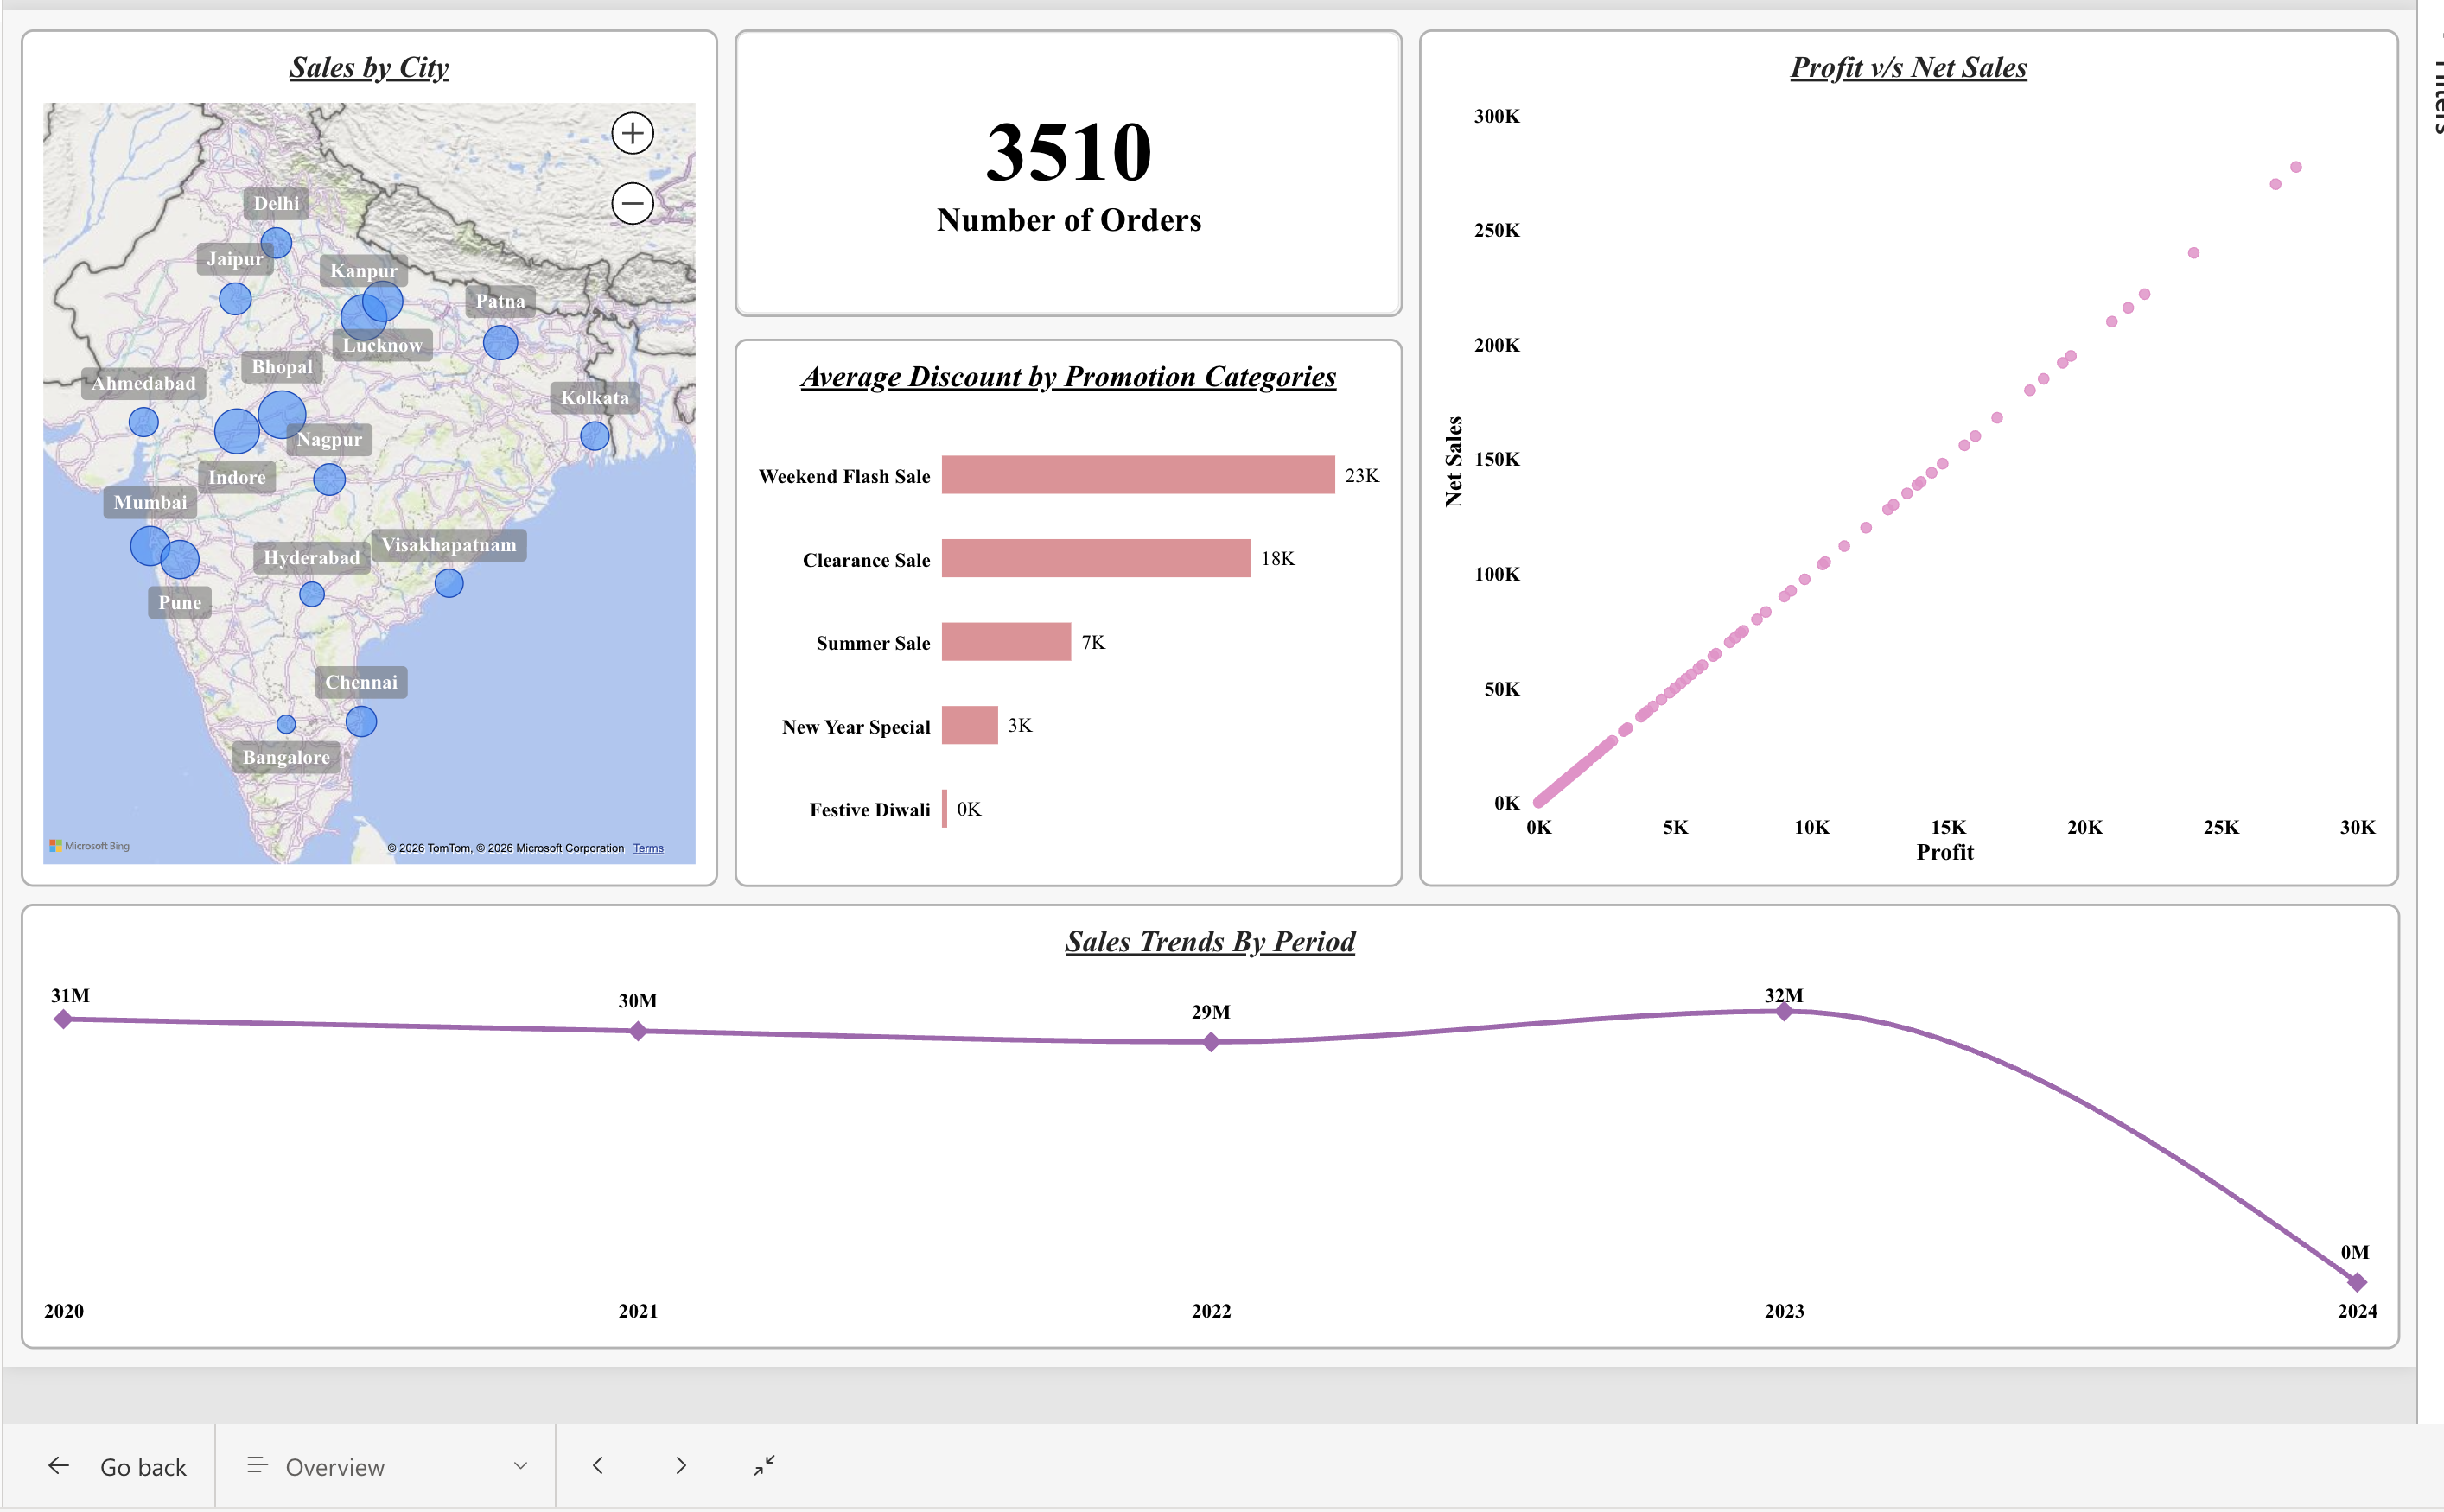

The dashboard page shown, as its layout file describes it:
{"tool":"powerbi","page":{"name":"Overview","canvas":[1920,1080],"ordinal":1},"visuals":[{"type":"lineChart","title":"Sales Trends By Period","fields":{"Category":["DateTable.Date.Variation.Date Hierarchy.Year","DateTable.Date.Variation.Date Hierarchy.Quarter","DateTable.Date.Variation.Date Hierarchy.Month","DateTable.Date.Variation.Date Hierarchy.Day"],"Y":["Sum(Fact Table.Net Sales)"]},"box":[13.3,711.2,1893.3,354.6],"z":0},{"type":"scatterChart","title":"Profit v/s Net Sales","fields":{"X":["Fact Table.Profit"],"Y":["Fact Table.Net Sales"]},"box":[1126.8,15.3,779.8,682.6],"z":1000},{"type":"barChart","title":"Average Discount by Promotion Categories","fields":{"Category":["Dim Promotion.Promotion Name"],"Y":["Avg(Fact Table.Discount Value)"]},"box":[581.5,261.2,532,436.6],"z":2000},{"type":"map","title":"Sales by City","fields":{"Category":["Dim Customers.City"],"Size":["Sum(Fact Table.Net Sales)"]},"box":[13.3,15.3,554.8,682.6],"z":3000},{"type":"cardVisual","fields":{"Data":["Count(Fact Table.Order ID)"]},"box":[581.5,15.3,532,228.8],"z":4000}]}

Visuals, with their boxes on the page's 1920x1080 design canvas (x1, y1, x2, y2). These are canvas units, not pixel positions in the 2444x1512 screenshot, which may show the page scaled, cropped or inside an application window:
"Sales Trends By Period" lineChart: l=13, t=711, r=1907, b=1066
"Profit v/s Net Sales" scatterChart: l=1127, t=15, r=1907, b=698
"Average Discount by Promotion Categories" barChart: l=582, t=261, r=1114, b=698
"Sales by City" map: l=13, t=15, r=568, b=698
cardVisual - Count(Fact Table.Order ID): l=582, t=15, r=1114, b=244
